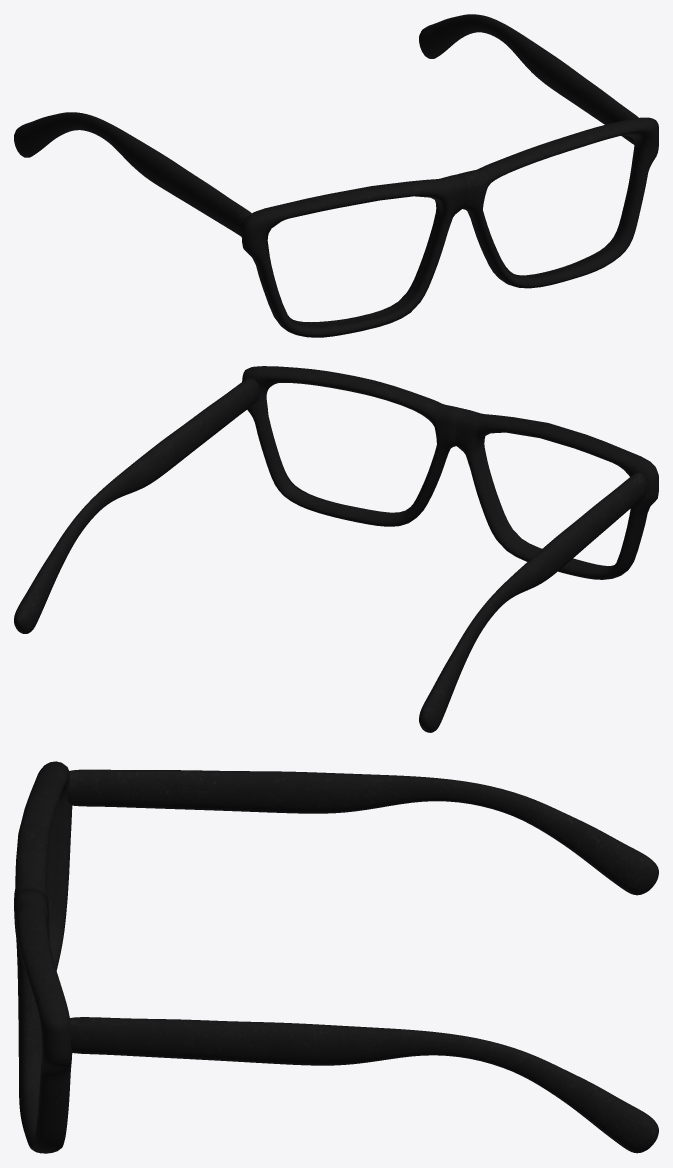
The picture shows the model from 3 angles, top to bottom: view 1: azimuth 30°, elevation 25°; view 2: azimuth 150°, elevation 25°; view 3: azimuth 270°, elevation 25°; orthographic projection. The views are drawn at different scales.
Visible parts, largest first — view 1: Base_1, Temples_0; view 2: Base_1, Temples_0; view 3: Temples_0, Base_1.
Part boxes in pixels (x1,y1,x2,y2): Base_1: (241, 117, 658, 337); Temples_0: (14, 14, 638, 236); Base_1: (242, 366, 658, 579); Temples_0: (14, 378, 646, 732); Temples_0: (67, 769, 658, 1153); Base_1: (14, 761, 72, 1153).
Size of what is drawn, in the model's own units: 1.72 by 0.5464 by 1.75.
Materials: 1 (1 with a texture image).
